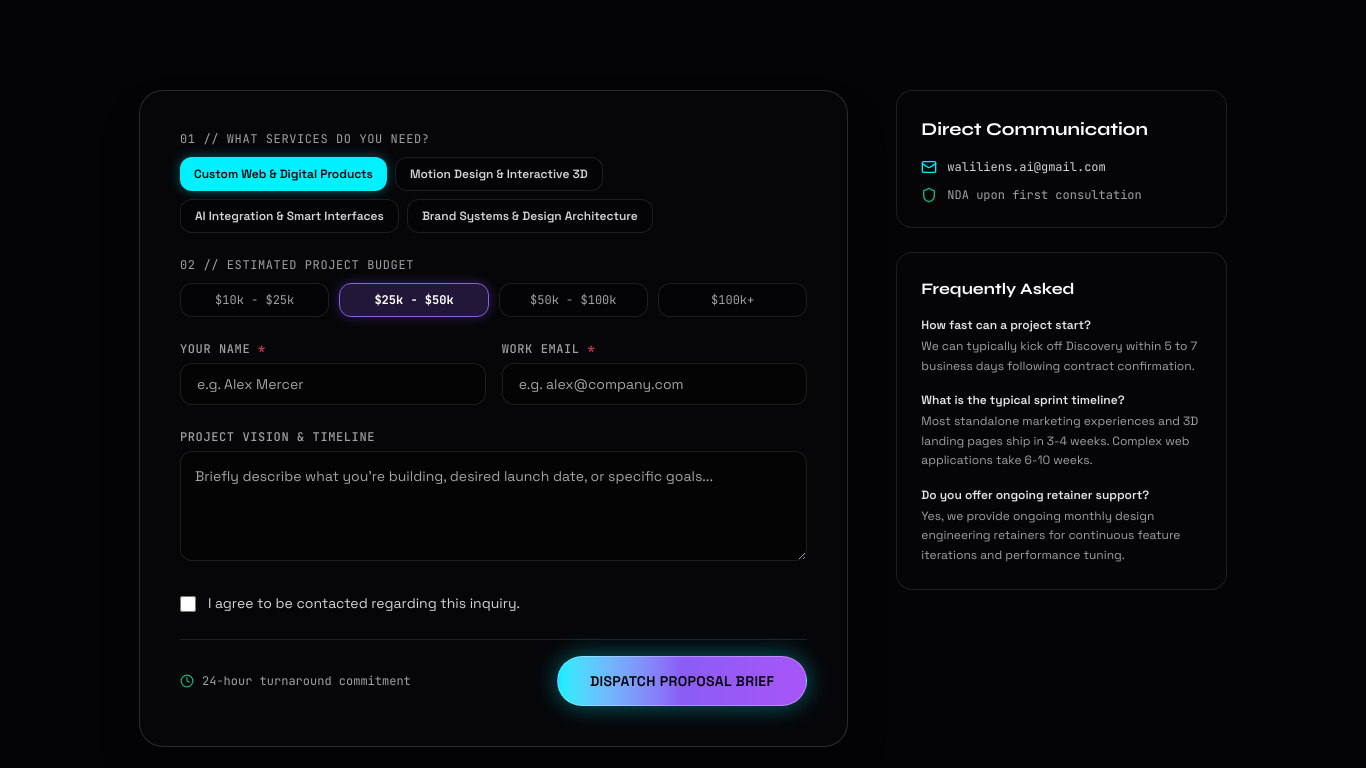
ContactPage Component › submits brief and displays success message on successful API response
(page scrolled)
Type "Alex Morgan" into the field with placeholder "e.g. Alex Mercer" at (333, 384), box [180, 363, 486, 405]
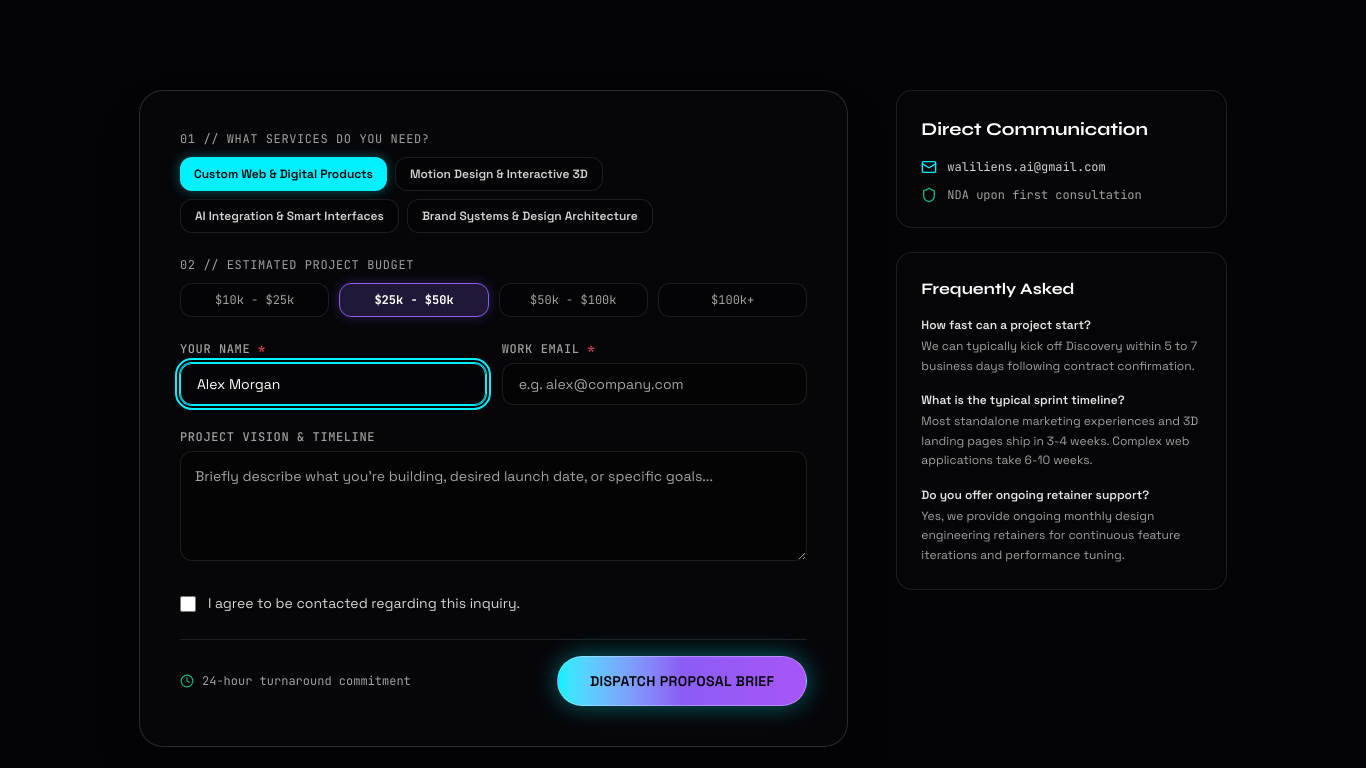
Type "alex@acme.corp" into the field with placeholder "e.g. alex@company.com" at (655, 384), box [502, 363, 807, 405]
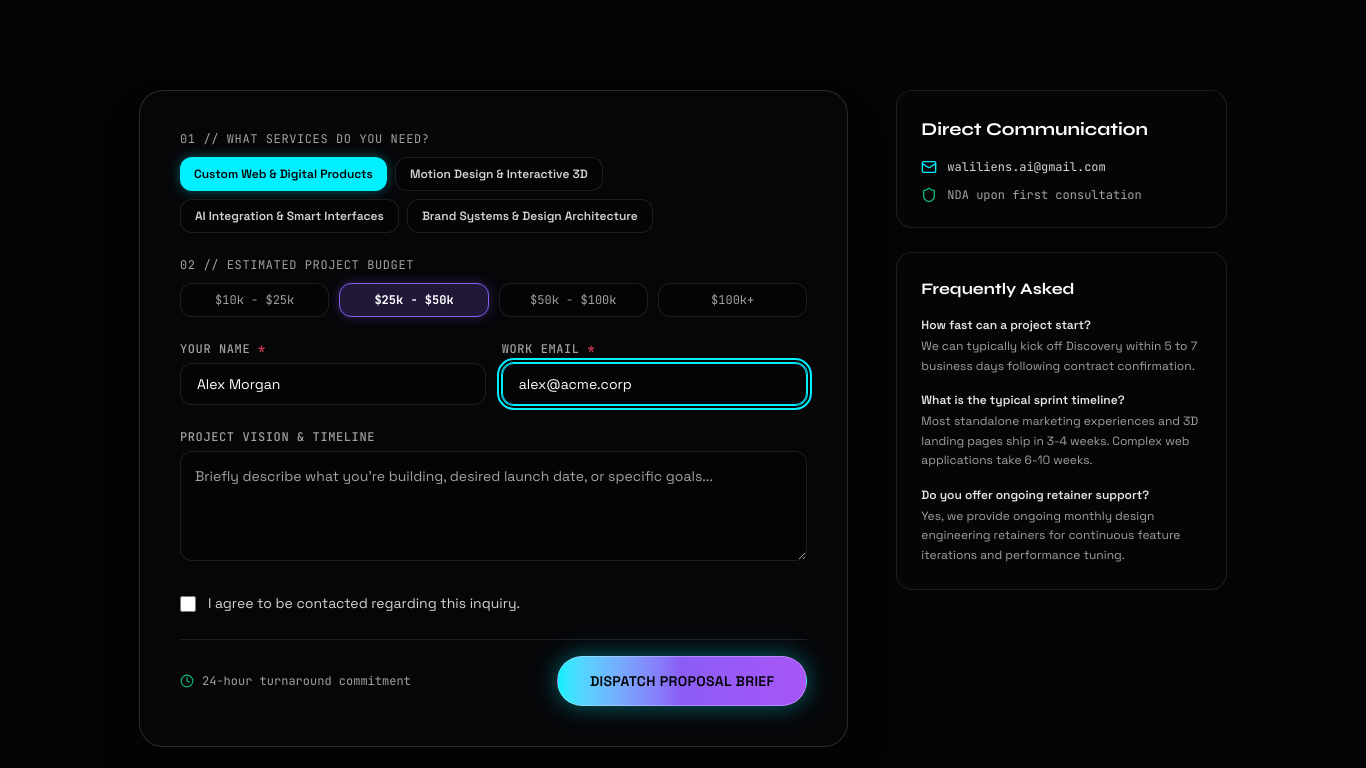
Type "We are looking for full-stack engineering and design overhaul." into the text box with placeholder "Briefly describe what you're building" at (494, 506), box [180, 451, 807, 561]
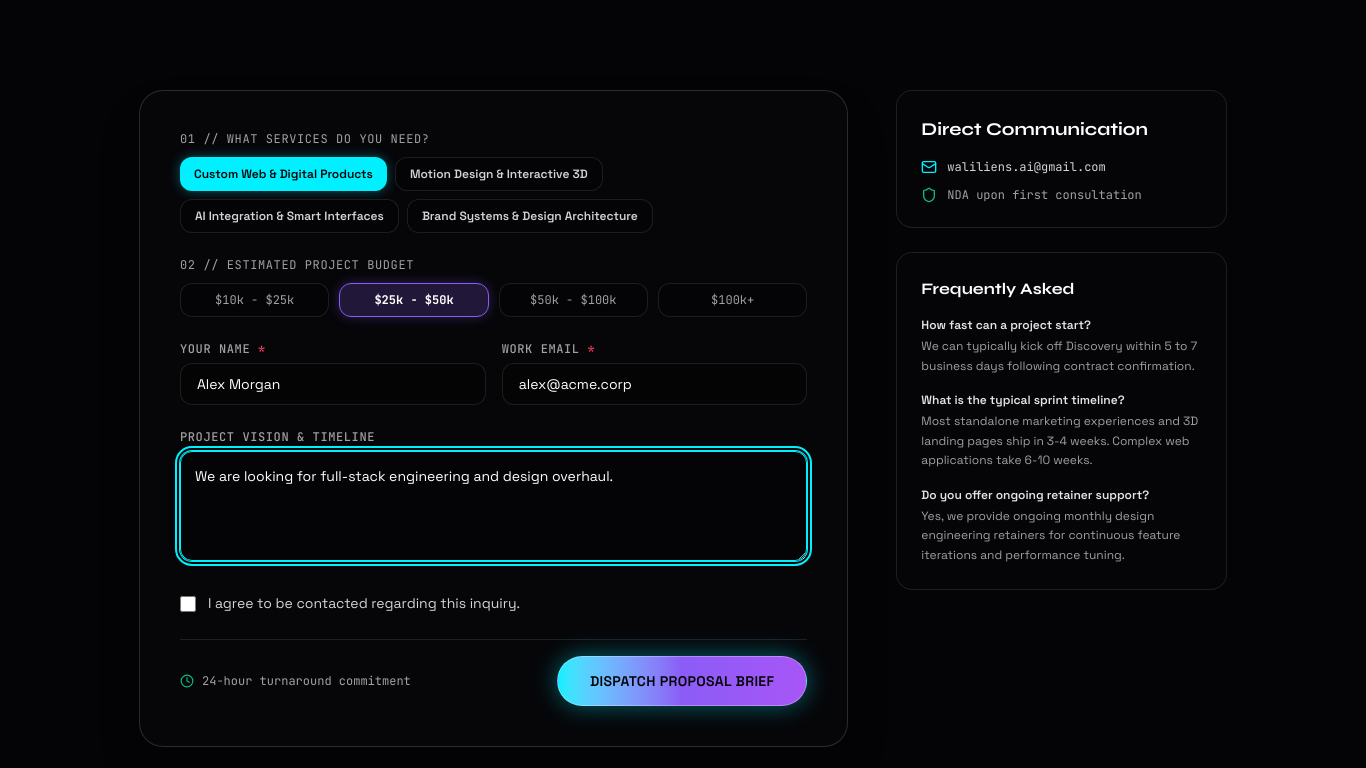
Click the button "DISPATCH PROPOSAL BRIEF" at (682, 681), box [557, 656, 807, 706]
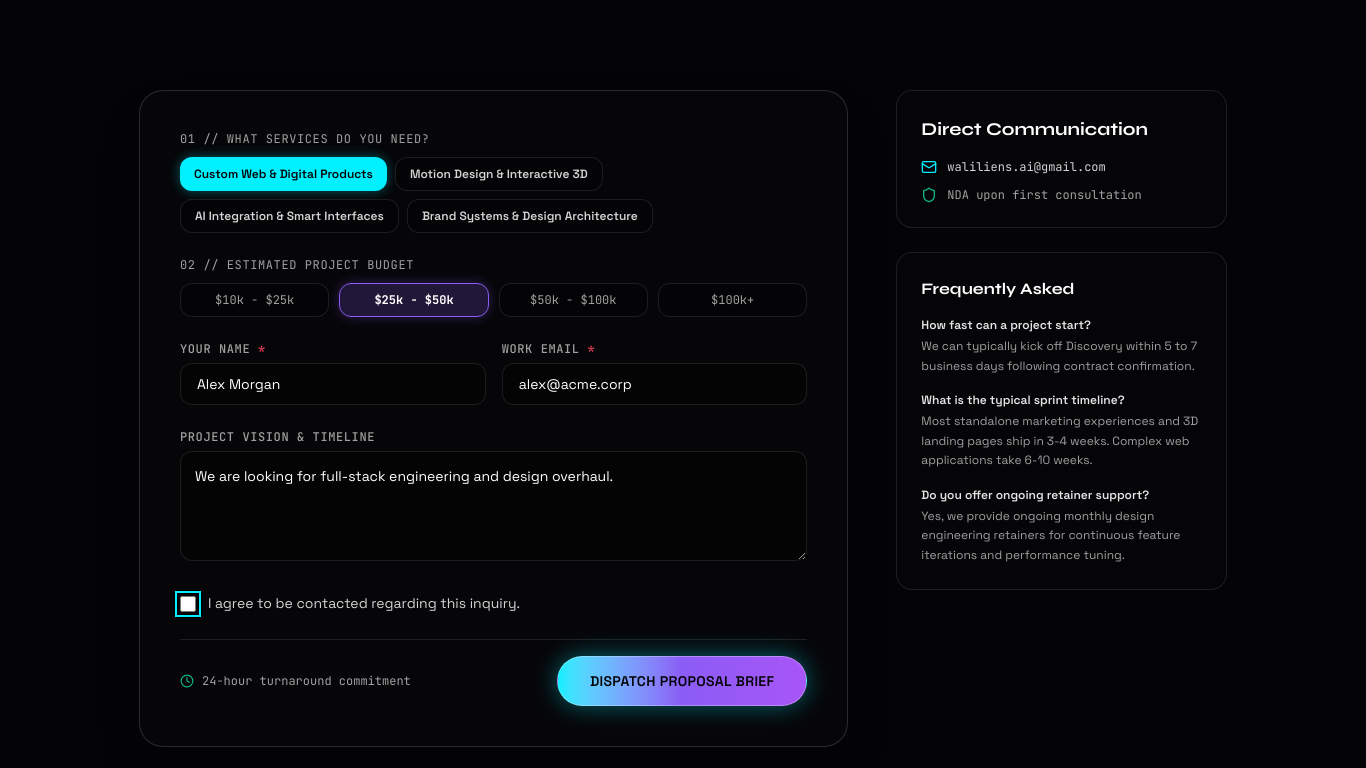
Click the checkbox labelled "I agree to be contacted regarding this inquiry." at (188, 604), box [180, 596, 196, 612]
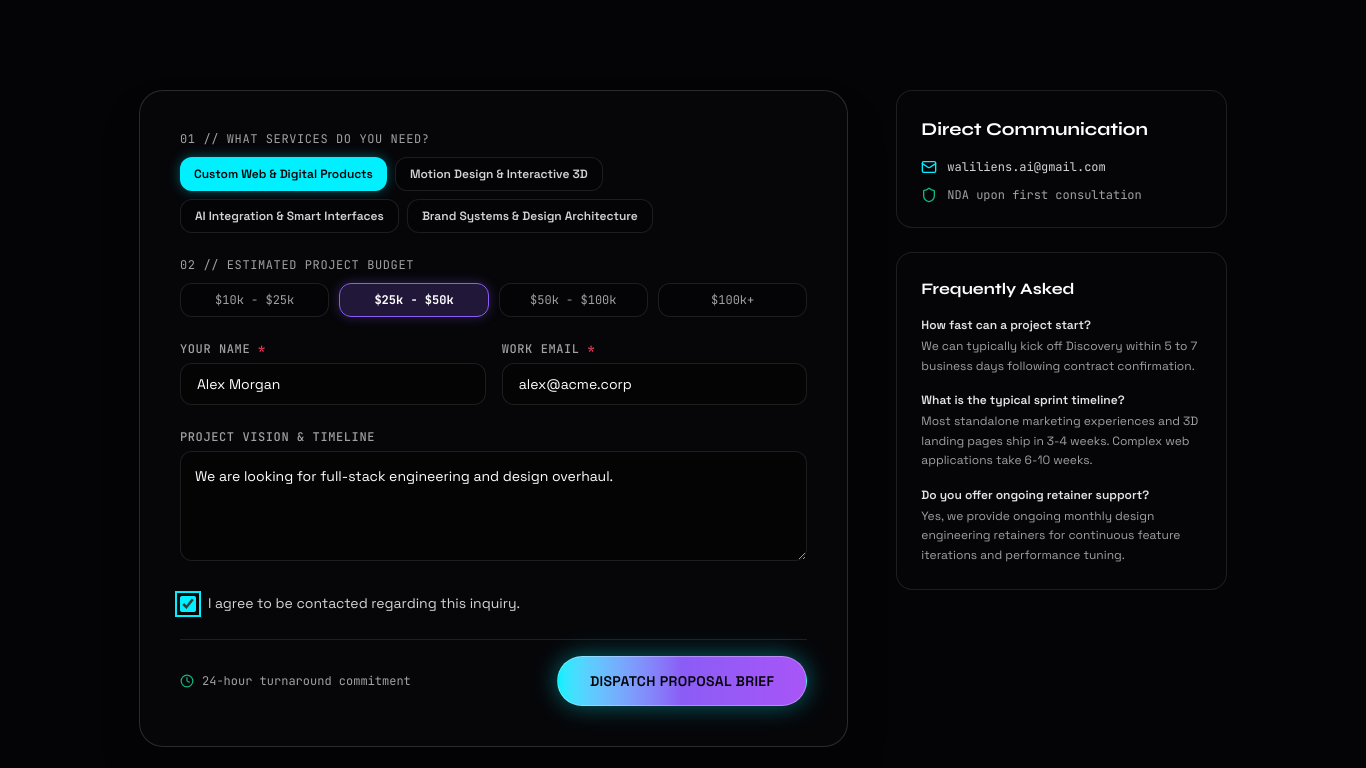
Click the button "DISPATCH PROPOSAL BRIEF" at (682, 681), box [557, 656, 807, 706]
(page scrolled)
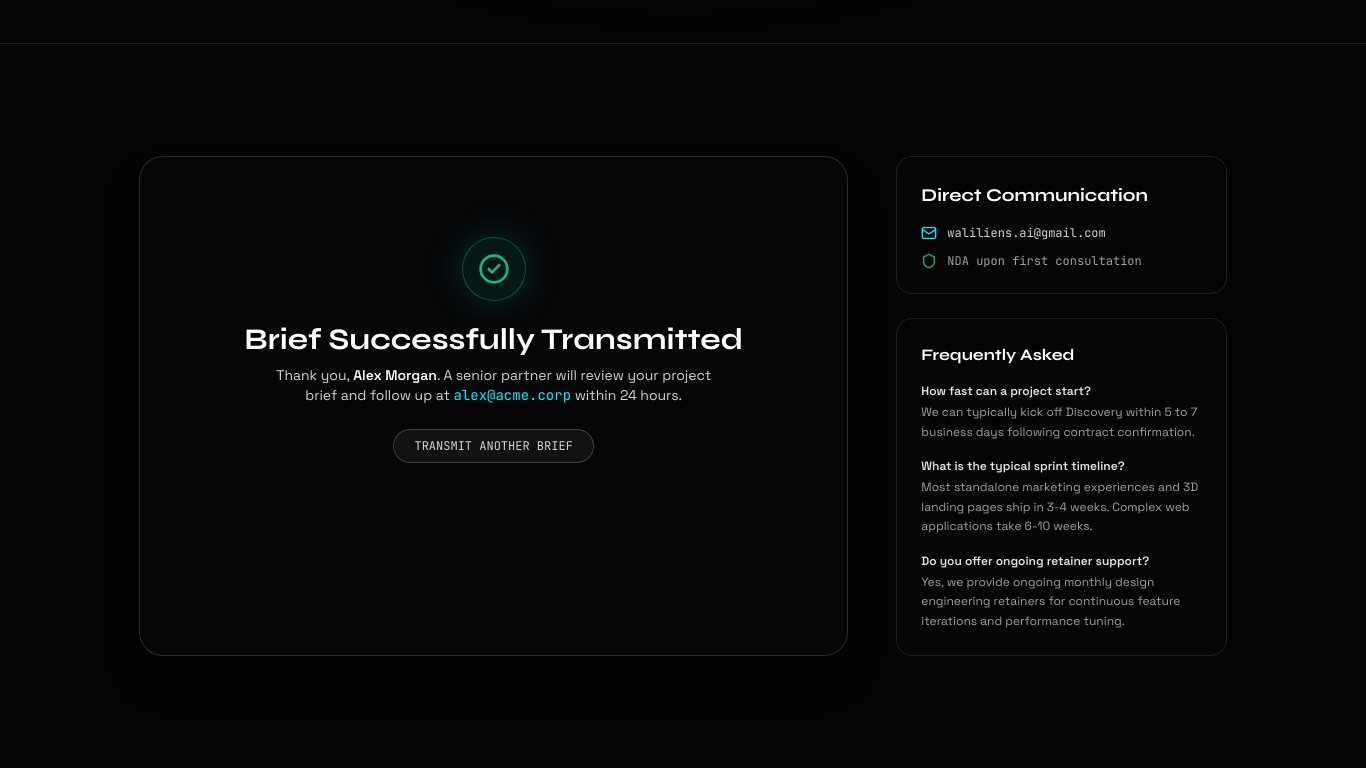
Check: the heading "Brief Successfully Transmitted" is shown, box [244, 321, 743, 357]
